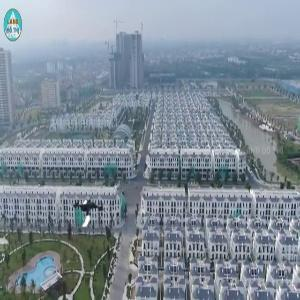drone: (68, 191, 109, 232)
